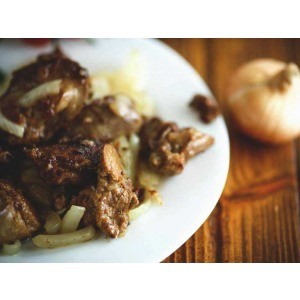liver_brain food: (14, 130, 133, 245)
